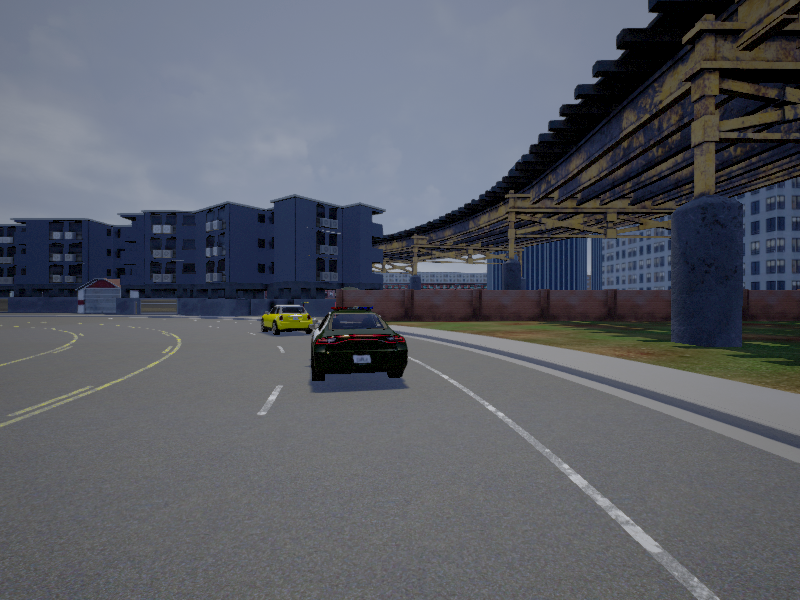Benign: (311, 304, 408, 385), (262, 303, 315, 335)
